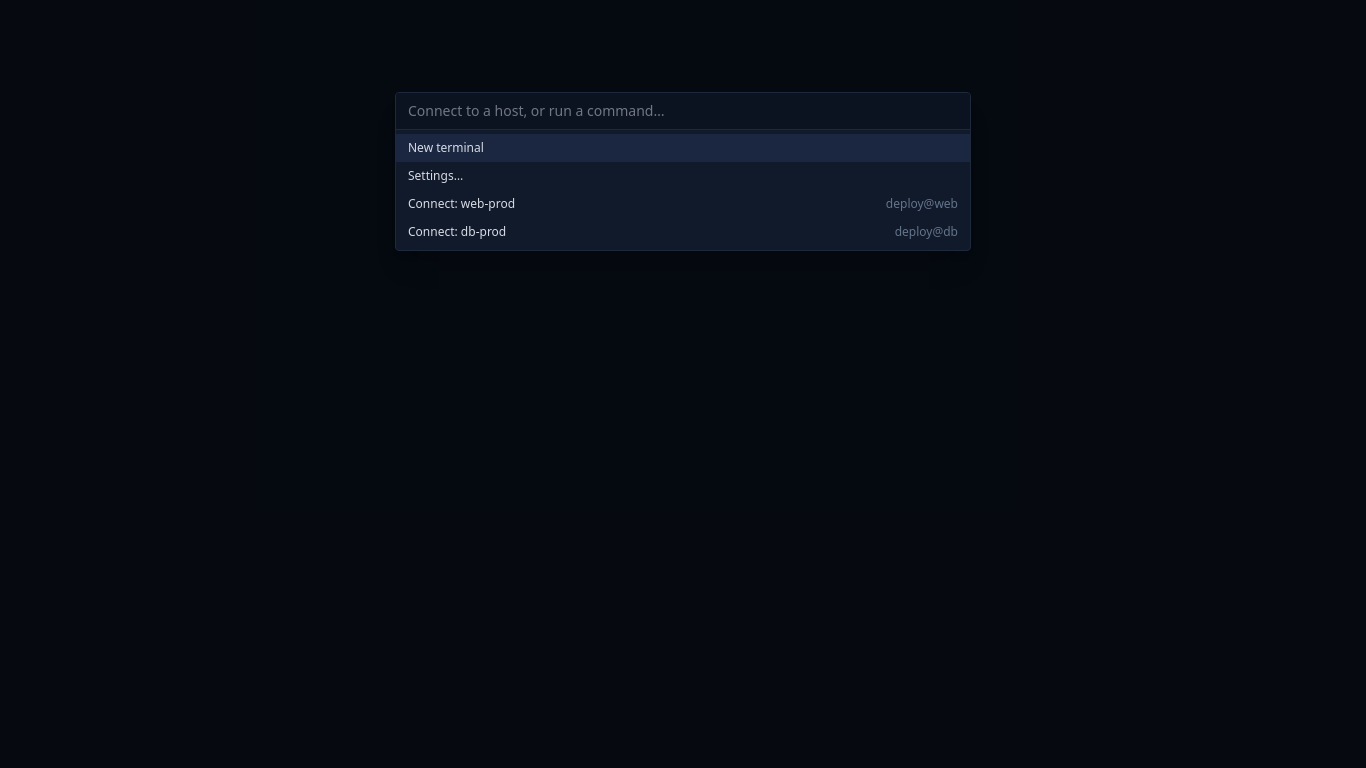
Scenario: CommandPalette › says so when nothing matches
Type "zzzzz" into the field named "Search commands" at (683, 112), box x1=396 y1=93 x2=970 y2=130
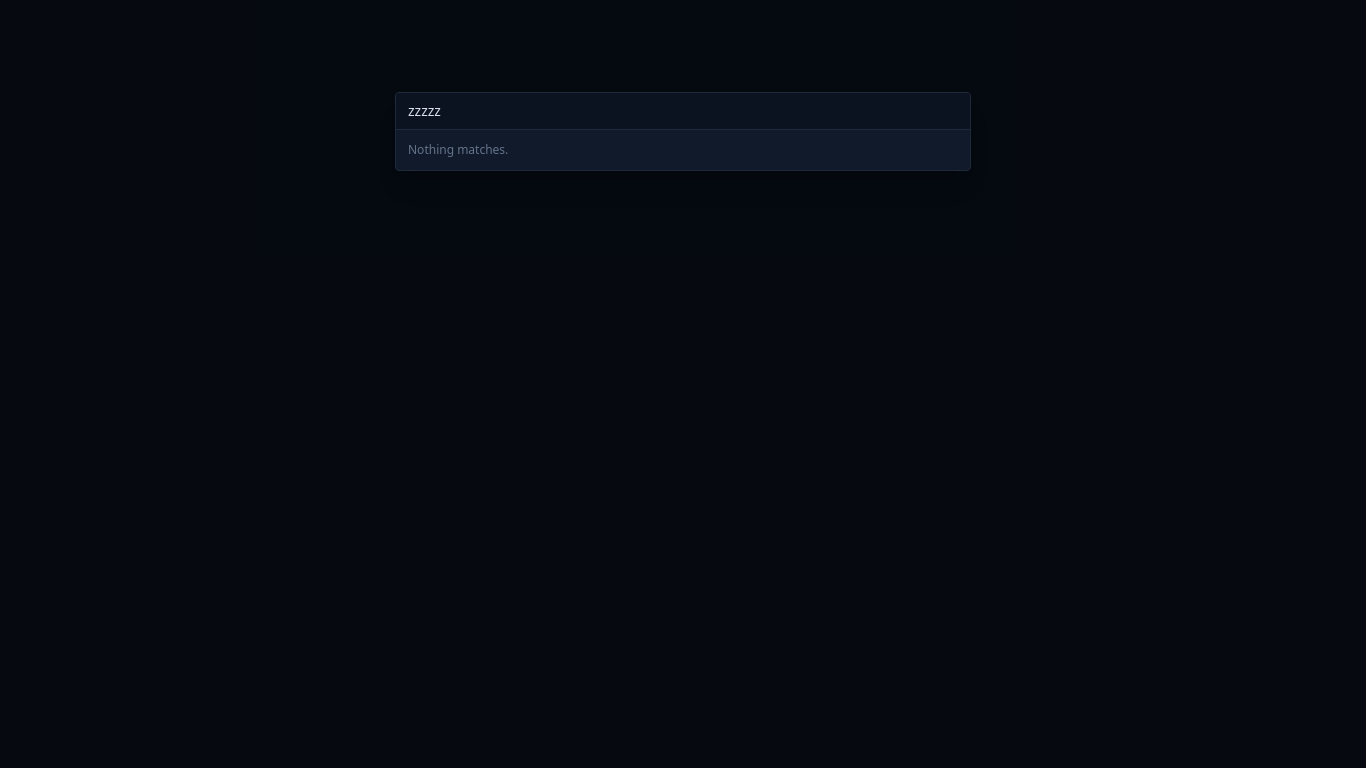
Expected: the list item "Nothing matches." is shown, x1=408 y1=141 x2=508 y2=158
